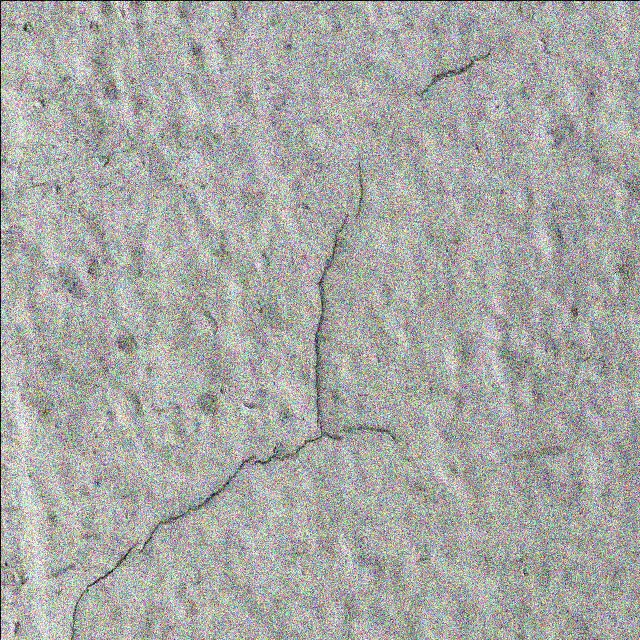SurfaceCrack: (54, 396, 631, 639), (281, 2, 408, 436)
